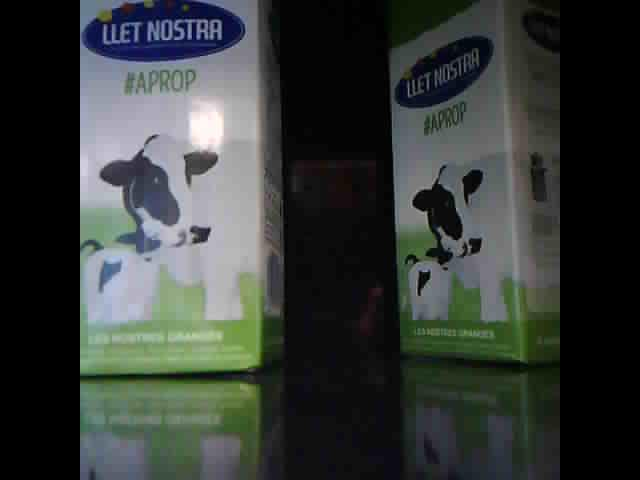leche: (78, 3, 286, 378), (388, 5, 563, 357)
